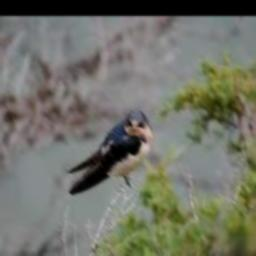Swallow: (66, 109, 152, 193)
